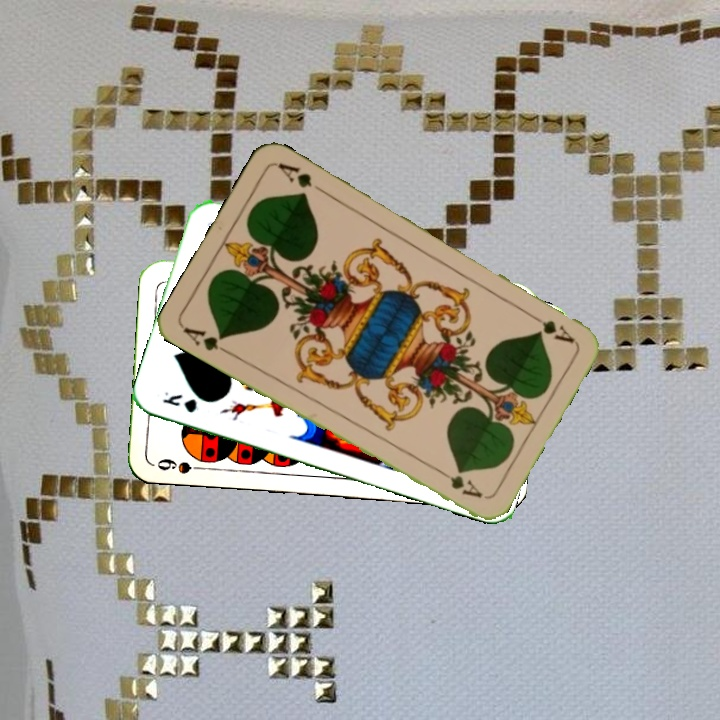GA: (524, 308, 577, 346), (179, 322, 234, 358)
GK: (158, 387, 202, 415)
S9: (153, 454, 211, 476)
